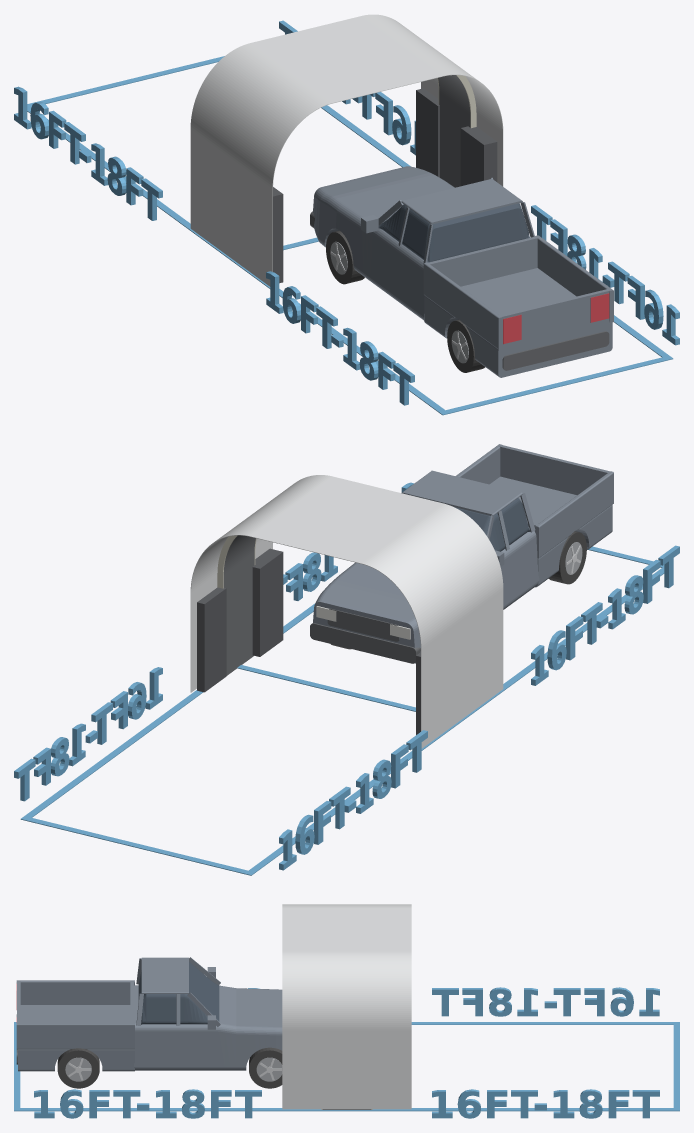
File: colibri-xl-cover-truck.glb
The picture shows the model from 3 angles, top to bottom: view 1: azimuth 30°, elevation 25°; view 2: azimuth 150°, elevation 25°; view 3: azimuth 270°, elevation 25°; orthographic projection. The views are drawn at different scales.
Visible parts, largest first — view 1: sun_cover, vehicle_body, vehicle_glass, label_far_end_other_side, label_near_end_other_side, label_near_end, vehicle_bed_front, vehicle_roof, vehicle_tailgate, vehicle_bed_wall_l, arch_shell, vehicle_bed_wall_r (+11 smaller); view 2: sun_cover, vehicle_body, label_near_end_other_side, label_far_end_other_side, label_far_end, arch_shell, wing_1, vehicle_tailgate, vehicle_roof, wing_3, vehicle_bed_wall_l, vehicle_bumper_front (+9 smaller); view 3: sun_cover, vehicle_body, label_far_end, label_far_end_other_side, label_near_end, vehicle_bed_wall_r, vehicle_glass, vehicle_bed_wall_l, lane_right, vehicle_roof, vehicle_tire_rear_r, lane_left (+5 smaller).
Part boxes in pixels (left/top/right/bottom): sun_cover: left=190, top=14, right=503, bottom=286; vehicle_body: left=313, top=166, right=612, bottom=377; vehicle_glass: left=378, top=203, right=529, bottom=262; label_far_end_other_side: left=14, top=86, right=162, bottom=220; label_near_end_other_side: left=266, top=271, right=414, bottom=405; label_near_end: left=531, top=205, right=679, bottom=345; vehicle_bed_front: left=424, top=236, right=540, bottom=295; vehicle_roof: left=401, top=179, right=522, bottom=224; vehicle_tailgate: left=496, top=289, right=612, bottom=348; vehicle_bed_wall_l: left=423, top=262, right=502, bottom=349; arch_shell: left=438, top=75, right=470, bottom=187; vehicle_bed_wall_r: left=535, top=235, right=613, bottom=322; sun_cover: left=190, top=475, right=503, bottom=748; vehicle_body: left=313, top=476, right=612, bottom=663; label_near_end_other_side: left=531, top=545, right=679, bottom=685; label_far_end_other_side: left=279, top=730, right=427, bottom=870; label_far_end: left=14, top=667, right=162, bottom=801; arch_shell: left=223, top=535, right=255, bottom=675; wing_1: left=252, top=548, right=283, bottom=656; vehicle_tailgate: left=499, top=445, right=612, bottom=504; vehicle_roof: left=401, top=470, right=522, bottom=515; wing_3: left=197, top=587, right=226, bottom=692; vehicle_bed_wall_l: left=534, top=471, right=613, bottom=558; vehicle_bumper_front: left=310, top=623, right=420, bottom=663; sun_cover: left=282, top=904, right=411, bottom=1109; vehicle_body: left=18, top=985, right=282, bottom=1071; label_far_end: left=432, top=1089, right=659, bottom=1118; label_far_end_other_side: left=432, top=987, right=659, bottom=1016; label_near_end: left=34, top=1089, right=261, bottom=1118; vehicle_bed_wall_r: left=16, top=1023, right=134, bottom=1049; vehicle_glass: left=138, top=962, right=219, bottom=1024; vehicle_bed_wall_l: left=16, top=980, right=134, bottom=1004; lane_right: left=14, top=1108, right=679, bottom=1111; vehicle_roof: left=141, top=957, right=188, bottom=993; vehicle_tire_rear_r: left=57, top=1048, right=99, bottom=1088; lane_left: left=14, top=1022, right=679, bottom=1024.
Bounding box in the file's own units: 4.74 × 2.91 × 12.86.
